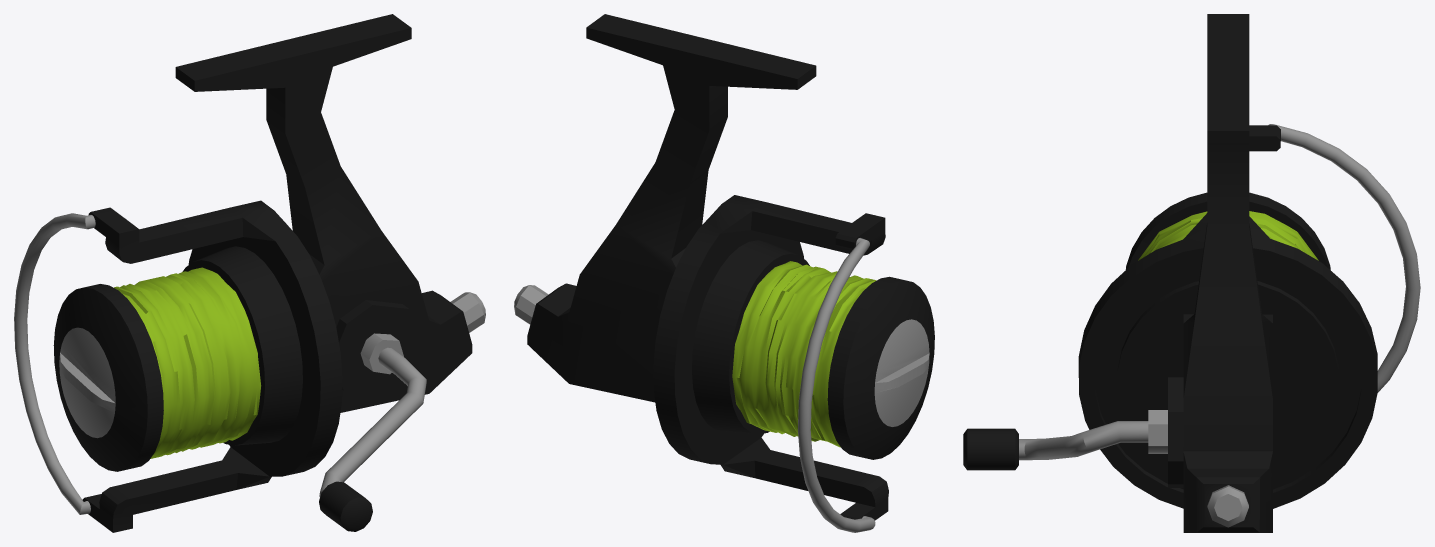
File: kolowrotek2.fbx
The picture shows the model from 3 angles, left to right: view 1: azimuth 30°, elevation 25°; view 2: azimuth 150°, elevation 25°; view 3: azimuth 270°, elevation 25°; orthographic projection. The views are drawn at different scales.
Parts seen in each view (by area): view 1: Cube.002; view 2: Cube.002; view 3: Cube.002.
Part boxes in pixels (bbox=[...]): Cube.002: bbox=[14, 14, 485, 532]; Cube.002: bbox=[514, 14, 934, 532]; Cube.002: bbox=[963, 14, 1420, 532].
Bounding box in the file's own units: 2301 × 2374 × 2039.
